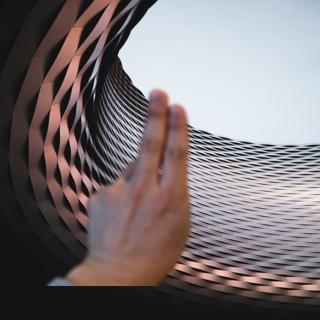DHAVE: (77, 84, 200, 281)
